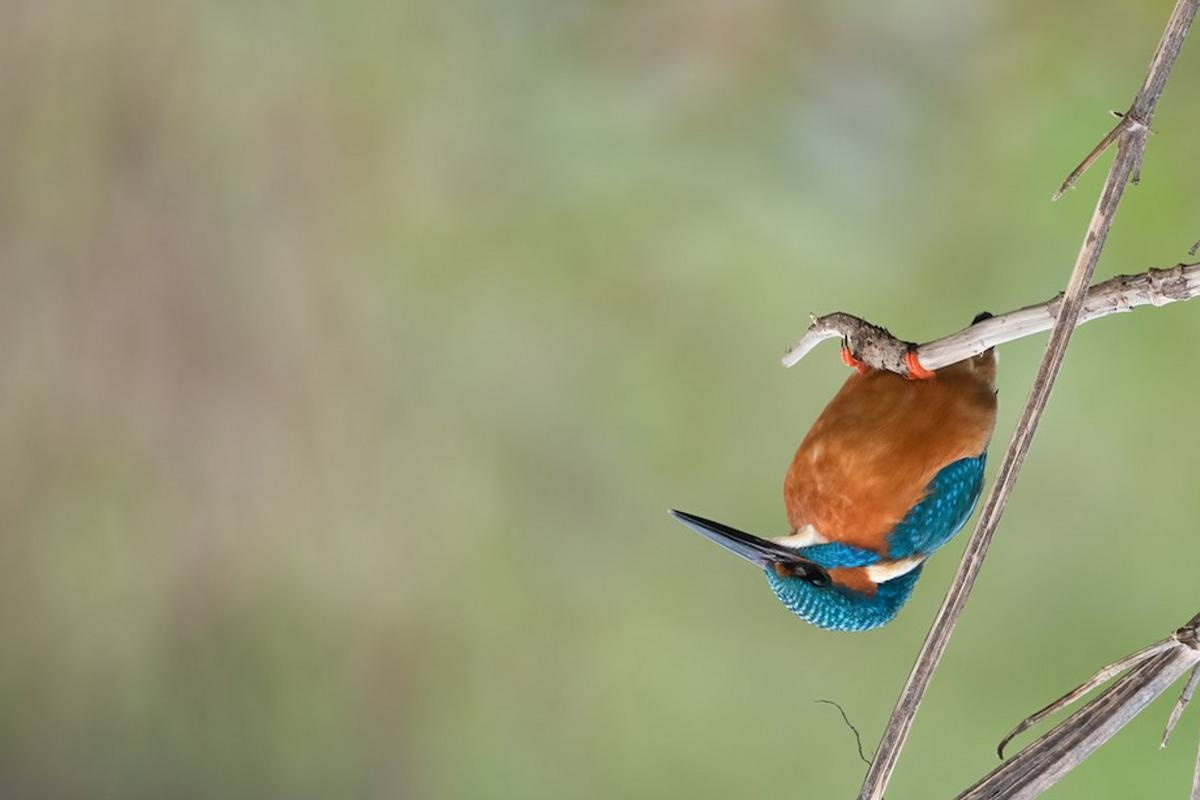kingfisher: (675, 280, 1005, 646)
